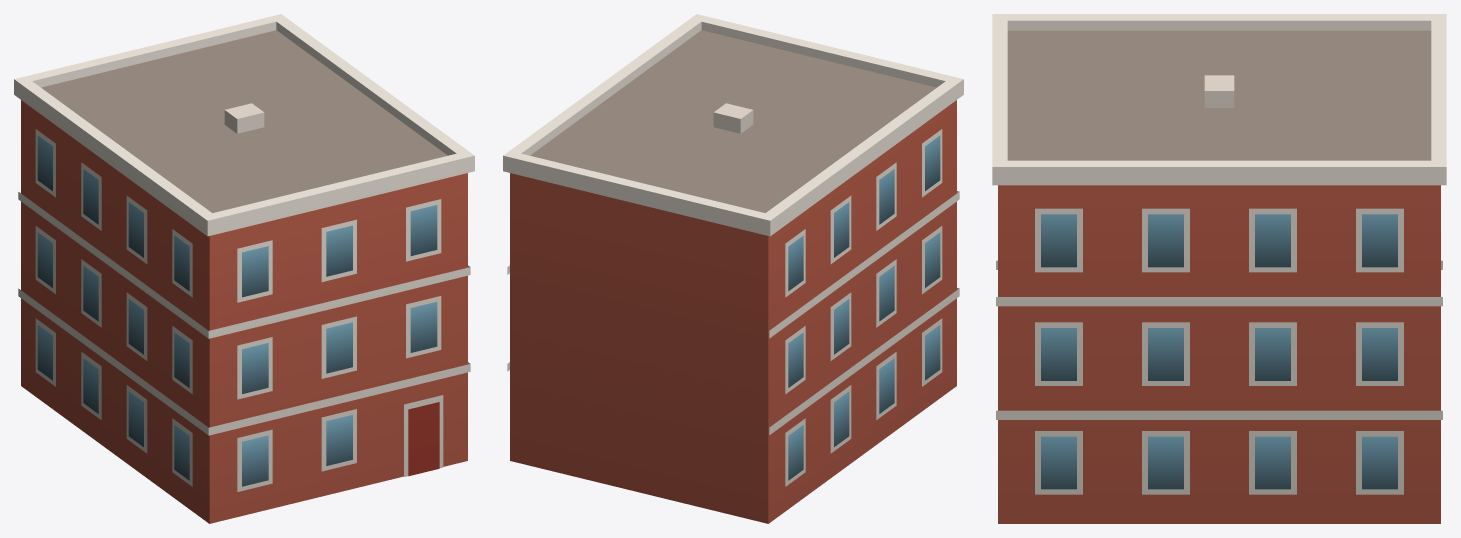
File: vee_leftbb1_far.glb
3 views of the same model, side by side, from view 1: azimuth 30°, elevation 25°; view 2: azimuth 150°, elevation 25°; view 3: azimuth 270°, elevation 25° (orthographic). The views are drawn at different scales.
Parts seen in each view (by area): view 1: vee_leftbb1_far; view 2: vee_leftbb1_far; view 3: vee_leftbb1_far.
Boxes of the visible parts, x1,y1,x2,y2 form: vee_leftbb1_far: [14, 14, 474, 523]; vee_leftbb1_far: [503, 14, 963, 523]; vee_leftbb1_far: [992, 14, 1446, 523].
Size of the model in its own units: 9.82 by 10.97 by 12.32.
1 material, 1 textured.
